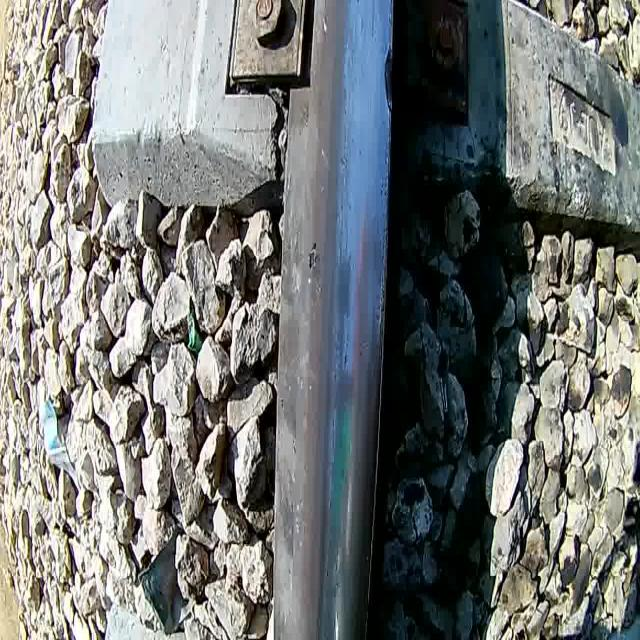Grooves: (335, 70, 353, 267), (325, 406, 338, 518)
Shellings: (376, 111, 390, 349), (323, 532, 343, 640), (382, 0, 398, 45)
Spallings: (303, 236, 323, 292)
Squats: (331, 246, 356, 368), (329, 366, 358, 421), (380, 36, 397, 123), (277, 490, 297, 558)
